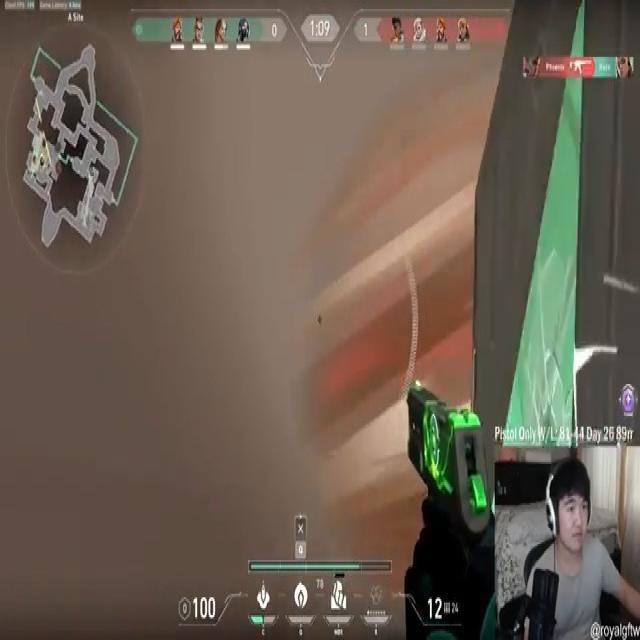smoke: (278, 64, 470, 515)
